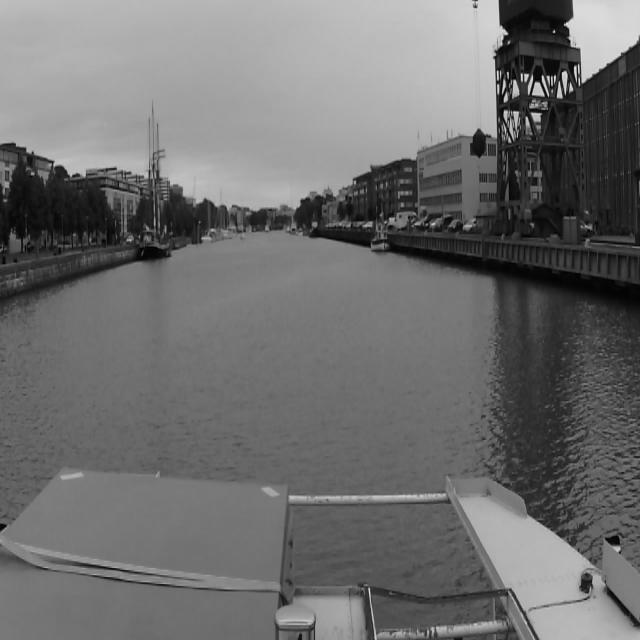ship: (138, 100, 170, 260), (201, 167, 220, 240), (370, 206, 390, 254), (218, 190, 232, 240)
